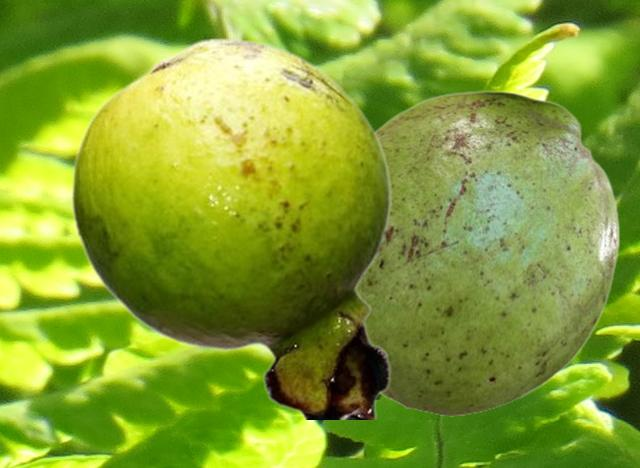guava: (70, 37, 392, 418), (359, 90, 619, 415)
